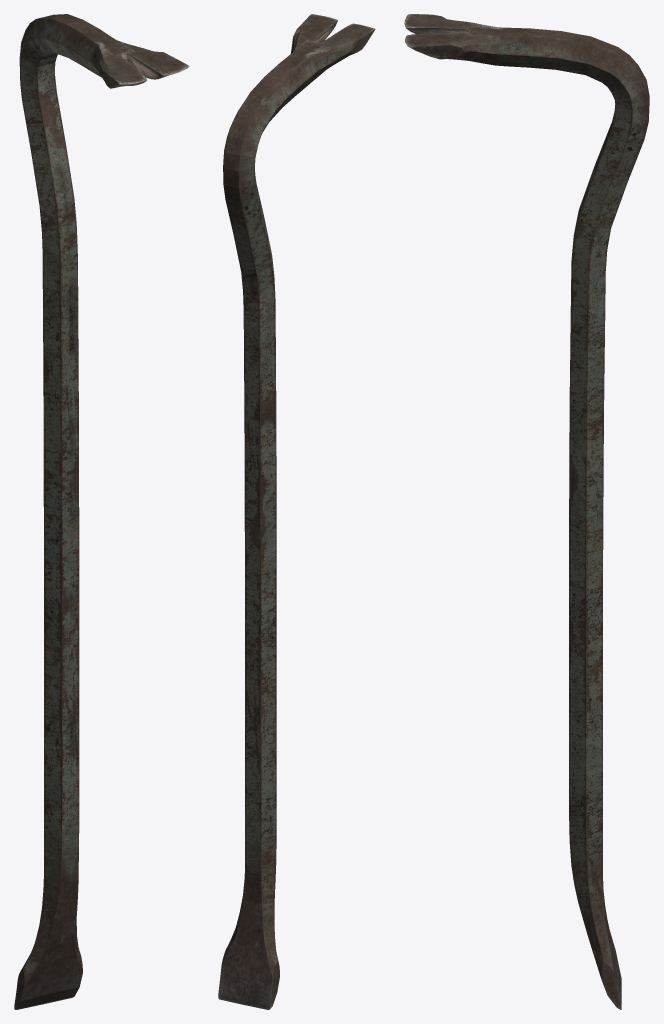
The model's file is Crowbar.obj.
The picture shows the model from 3 angles, left to right: view 1: azimuth 30°, elevation 25°; view 2: azimuth 150°, elevation 25°; view 3: azimuth 270°, elevation 25°; orthographic projection. The views are drawn at different scales.
Parts seen in each view (by area): view 1: Cube_001; view 2: Cube_001; view 3: Cube_001.
Boxes of the visible parts, box(x1,y1,x2,y2) form: Cube_001: box(14, 14, 189, 1009); Cube_001: box(218, 14, 375, 1009); Cube_001: box(404, 14, 649, 1009).
Bounding box in the file's own units: 0.0404 × 0.5554 × 0.1276.
1 material, 1 textured.
